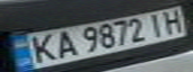2: (127, 16, 151, 43)
7: (112, 18, 133, 46)
8: (97, 21, 118, 50)
9: (78, 24, 100, 53)
A: (48, 28, 81, 58)
H: (157, 7, 187, 35)
I: (145, 11, 172, 37)
K: (24, 31, 63, 64)
